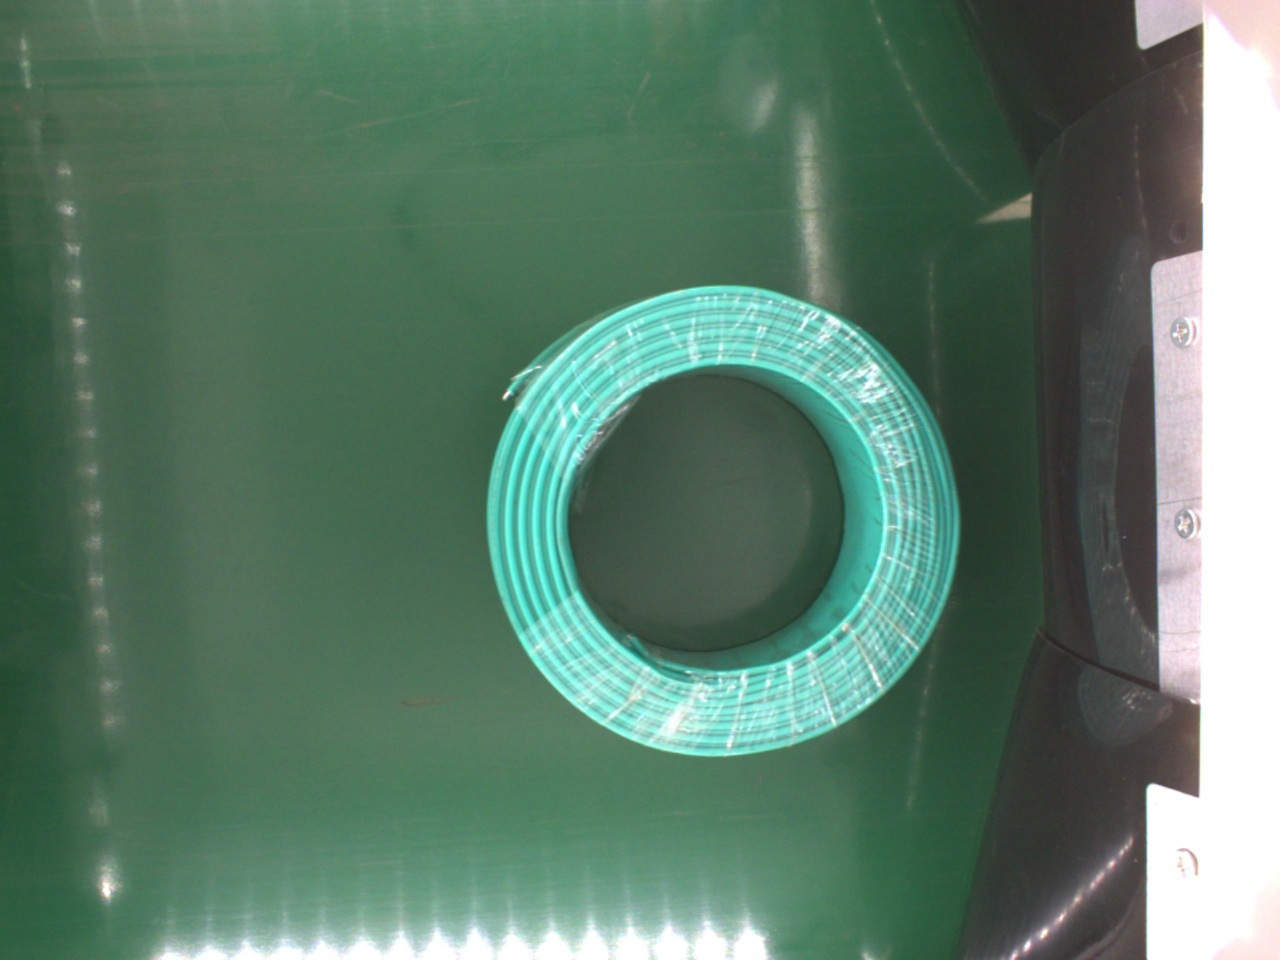green: (481, 283, 963, 759)
